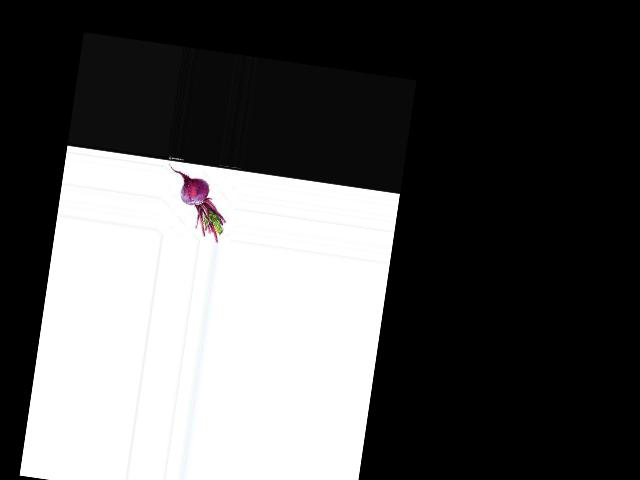beet: (159, 163, 233, 244)
